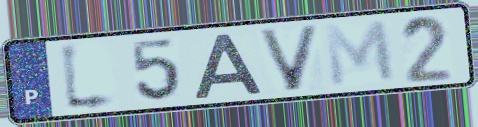2: (398, 13, 458, 84)
5: (130, 36, 184, 104)
A: (191, 31, 265, 101)
L: (57, 39, 122, 115)
M: (321, 18, 400, 90)
V: (255, 23, 324, 94)
